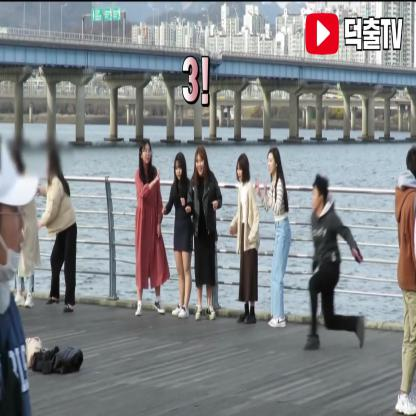Fall_Down: (301, 174, 367, 352)
